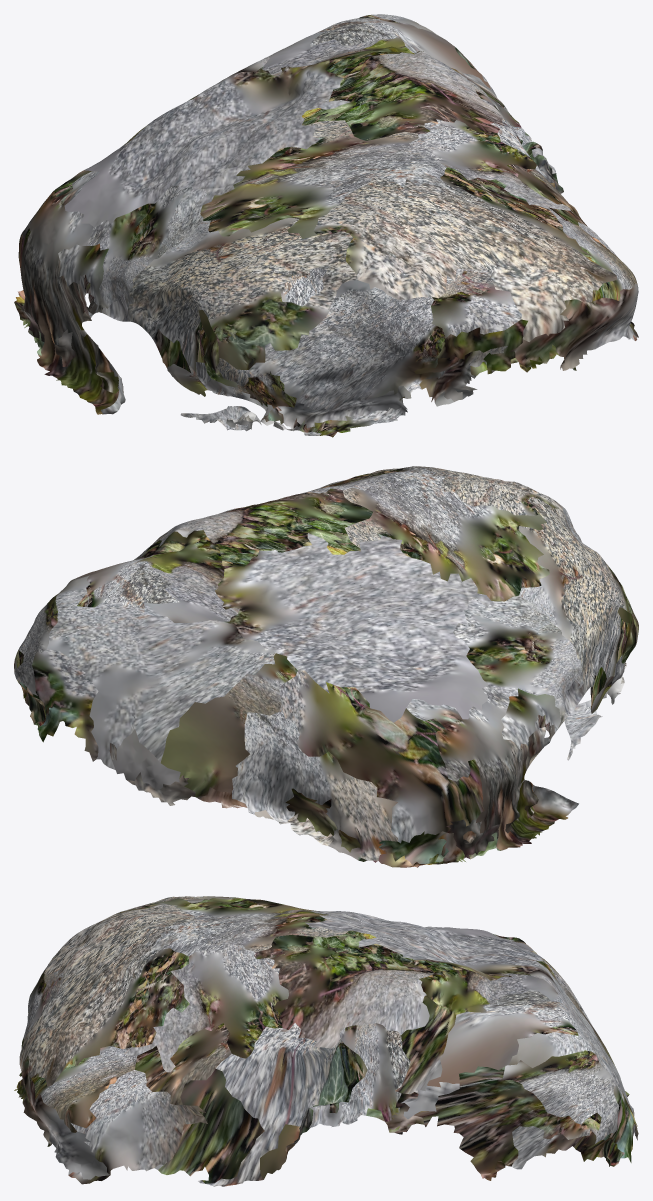
The model's file is cleaned.fbx.
3 views of the same model, one above another, from view 1: azimuth 30°, elevation 25°; view 2: azimuth 150°, elevation 25°; view 3: azimuth 270°, elevation 25° (orthographic). The views are drawn at different scales.
Visible parts, largest first — view 1: nodes[0]; view 2: nodes[0]; view 3: nodes[0].
Part boxes in pixels (x1=…): nodes[0]: x1=14, y1=14, x2=638, y2=437; nodes[0]: x1=14, y1=466, x2=638, y2=867; nodes[0]: x1=14, y1=896, x2=638, y2=1186.
Size of the model in its own units: 118 by 60.37 by 139.
